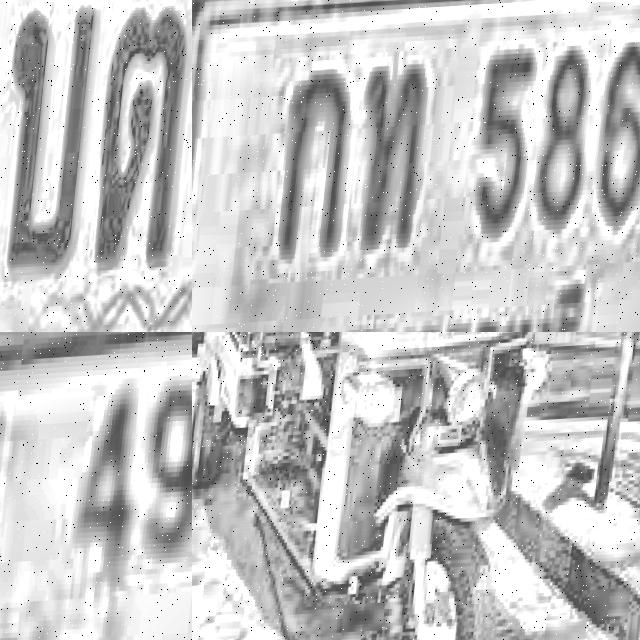license-plate: (192, 0, 640, 332), (0, 0, 192, 332), (0, 332, 192, 640), (411, 332, 509, 365)
